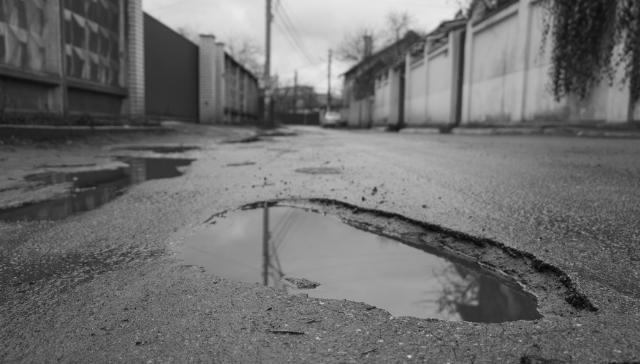Pothole: (165, 196, 597, 340), (0, 141, 214, 228)
